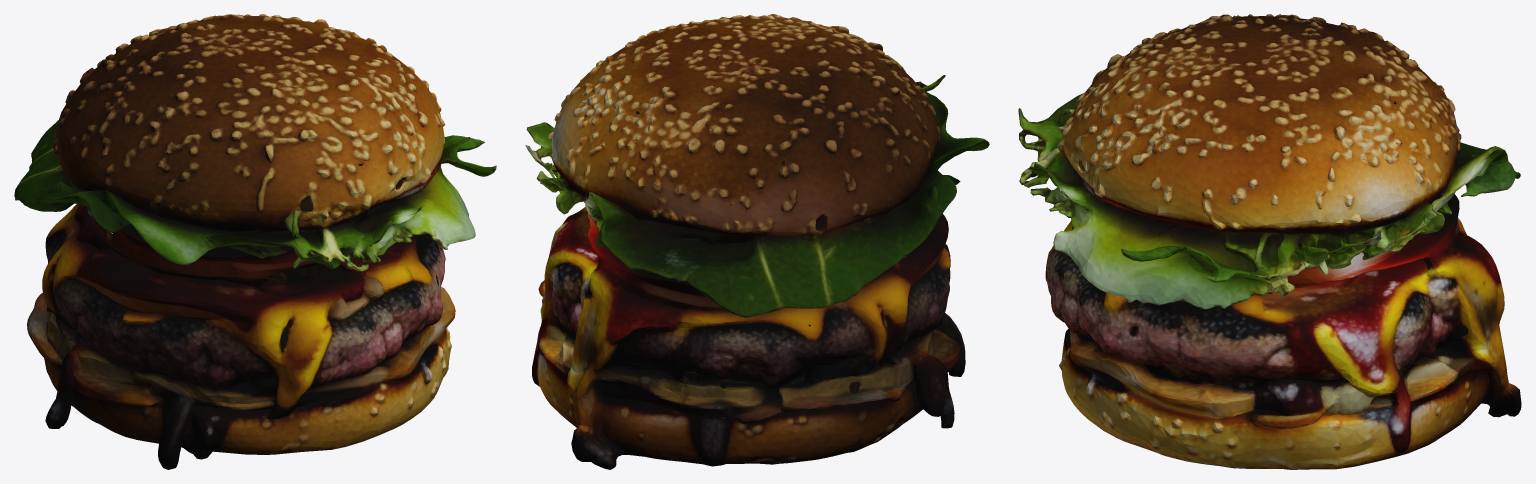
File: hamburger.glb
The picture shows the model from 3 angles, left to right: view 1: azimuth 30°, elevation 25°; view 2: azimuth 150°, elevation 25°; view 3: azimuth 270°, elevation 25°; orthographic projection. The views are drawn at different scales.
Parts seen in each view (by area): view 1: world; view 2: world; view 3: world.
Part boxes in pixels (x1=…): world: x1=14, y1=14, x2=496, y2=469; world: x1=525, y1=14, x2=989, y2=469; world: x1=1018, y1=14, x2=1521, y2=469.
Bounding box in the file's own units: 0.9633 × 0.7686 × 0.9995.
1 material, 1 textured.
